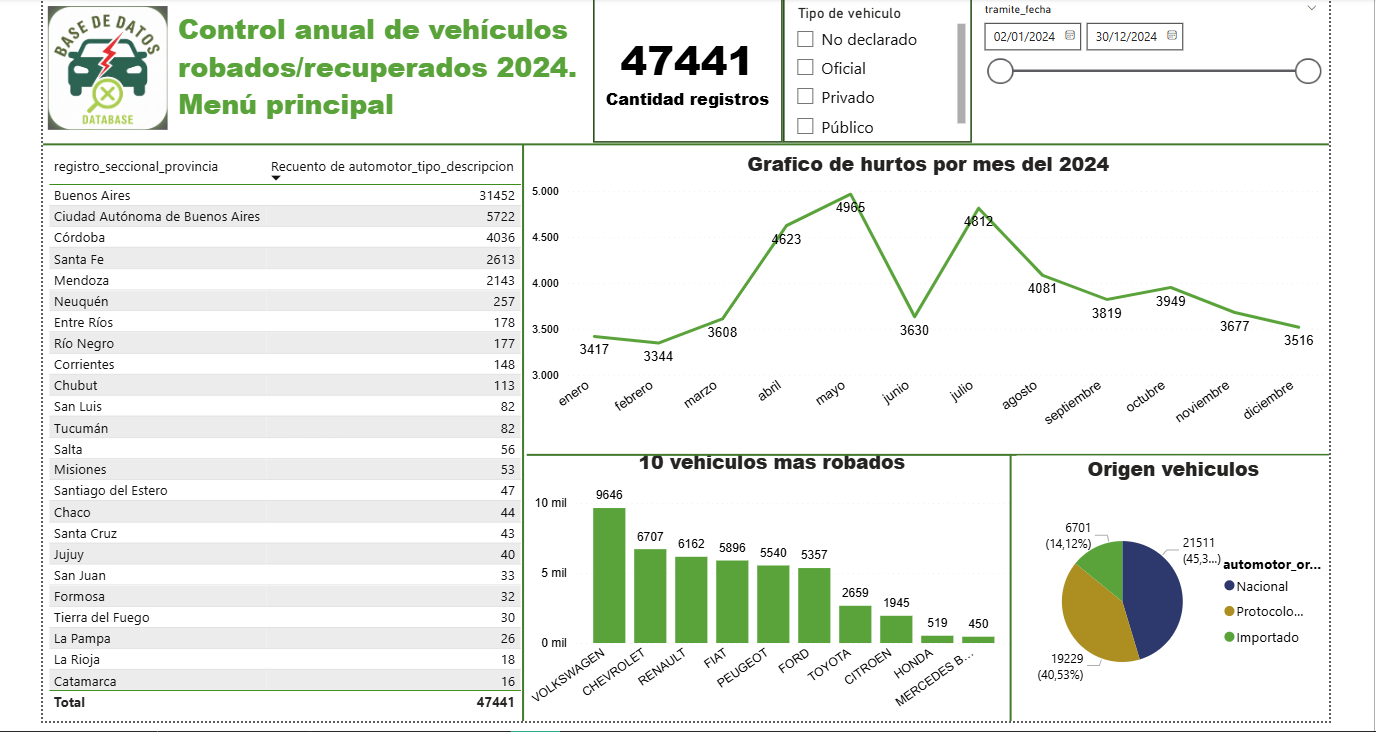

The page's visual inventory and layout, read from the dashboard file:
{"tool":"powerbi","page":{"name":"Menú principal","canvas":[1280,720],"ordinal":0},"visuals":[{"type":"tableEx","title":"Cantidad de autos robados por provincias","fields":{"Values":["datosRoboRecuperoAutos1.registro_seccional_provincia","CountNonNull(datosRoboRecuperoAutos1.automotor_tipo_descripcion)"]},"box":[0,151.8,481.4,568.5],"z":0},{"type":"lineChart","title":"Grafico de hurtos por mes del 2024","fields":{"Category":["datosRoboRecuperoAutos1.tramite_fecha.Variación.Jerarquía de fechas.Mes"],"Y":["CountNonNull(datosRoboRecuperoAutos1.automotor_modelo_descripcion)"]},"box":[481.2,152,799.1,296.3],"z":1000},{"type":"card","fields":{"Values":["CountNonNull(datosRoboRecuperoAutos1.tramite_tipo)"]},"box":[547.3,0,189.1,144.3],"z":2000},{"type":"slicer","fields":{"Values":["datosRoboRecuperoAutos1.tramite_fecha"]},"box":[924.3,0,355.8,139.3],"z":3000},{"type":"columnChart","title":"10 vehiculos mas robados","fields":{"Category":["datosRoboRecuperoAutos1.automotor_marca_descripcion"],"Y":["CountNonNull(datosRoboRecuperoAutos1.automotor_marca_descripcion)"]},"box":[481.2,448.3,487.5,272.3],"z":4000},{"type":"shape","box":[0,139.3,1280.3,12.7],"z":5000},{"type":"shape","box":[473.6,145.6,7.6,574.9],"z":6000},{"type":"shape","box":[956.1,455.9,12.7,264.7],"z":7000},{"type":"shape","box":[481.4,447.8,798.6,13.7],"z":8000},{"type":"image","box":[0,0,129.2,139.3],"z":9000},{"type":"slicer","fields":{"Values":["datosRoboRecuperoAutos1.automotor_uso_descripcion"]},"box":[736.4,0,187.8,144.3],"z":10000},{"type":"pieChart","title":"Origen vehiculos","fields":{"Category":["datosRoboRecuperoAutos1.automotor_origen"],"Y":["CountNonNull(datosRoboRecuperoAutos1.automotor_origen)"]},"box":[968.7,455.9,311.5,264.7],"z":11000},{"type":"textbox","box":[129.4,6.2,418,133.1],"z":12000}]}

Visuals, with their boxes on the page's 1280x720 design canvas (x1, y1, x2, y2). These are canvas units, not pixel positions in the 1376x732 screenshot, which may show the page scaled, cropped or inside an application window:
"Cantidad de autos robados por provincias" tableEx: <region>0, 152, 481, 720</region>
"Grafico de hurtos por mes del 2024" lineChart: <region>481, 152, 1280, 448</region>
card - CountNonNull(datosRoboRecuperoAutos1.tramite_tipo): <region>547, 0, 736, 144</region>
slicer - datosRoboRecuperoAutos1.tramite_fecha: <region>924, 0, 1280, 139</region>
"10 vehiculos mas robados" columnChart: <region>481, 448, 969, 721</region>
shape: <region>0, 139, 1280, 152</region>
shape: <region>474, 146, 481, 720</region>
shape: <region>956, 456, 969, 721</region>
shape: <region>481, 448, 1280, 462</region>
image: <region>0, 0, 129, 139</region>
slicer - datosRoboRecuperoAutos1.automotor_uso_descripcion: <region>736, 0, 924, 144</region>
"Origen vehiculos" pieChart: <region>969, 456, 1280, 721</region>
textbox: <region>129, 6, 547, 139</region>
